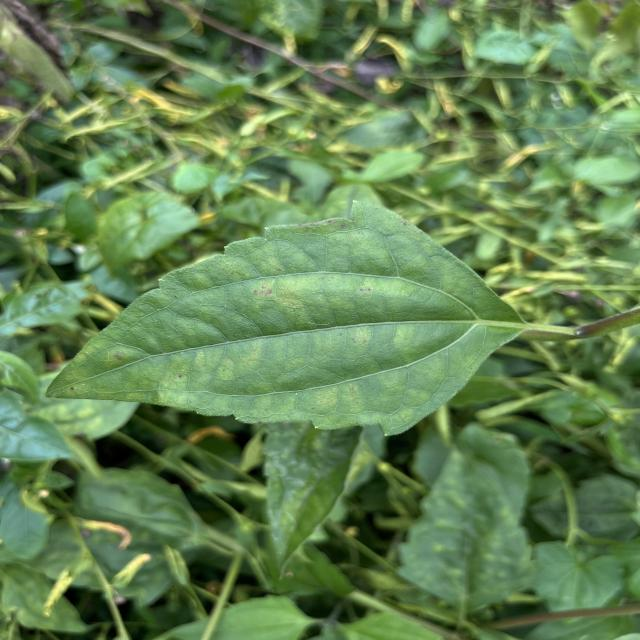Chromolaena odorata: (38, 196, 534, 440)
